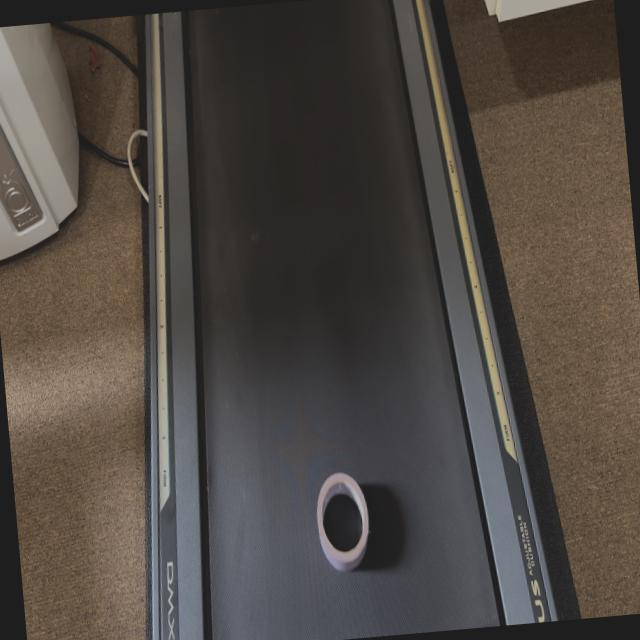Trash: (309, 469, 374, 574)
